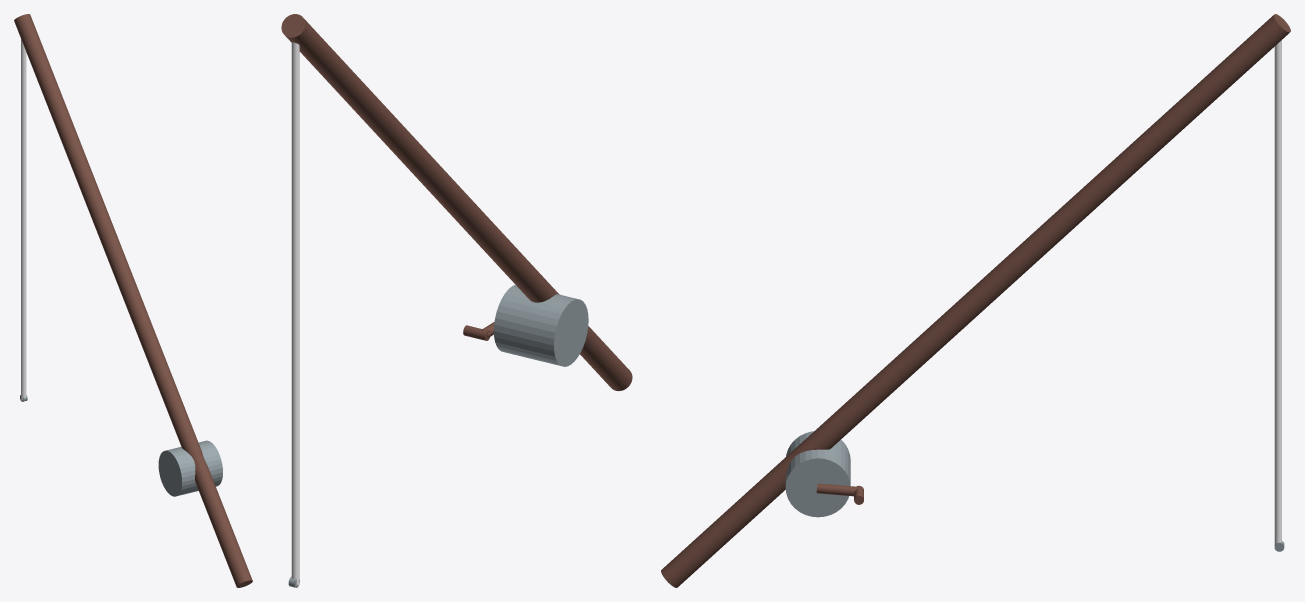
The model's file is Fishingrod.fbx.
3 renders of one model, left to right at view 1: azimuth 30°, elevation 25°; view 2: azimuth 150°, elevation 25°; view 3: azimuth 270°, elevation 25°, orthographic. The views are drawn at different scales.
Parts seen in each view (by area): view 1: Cylinder.005; view 2: Cylinder.005; view 3: Cylinder.005.
Part boxes in pixels (left/top/right/bottom): Cylinder.005: left=14, top=14, right=252, bottom=587; Cylinder.005: left=281, top=14, right=632, bottom=587; Cylinder.005: left=661, top=14, right=1290, bottom=587.
Size of the model in its own units: 147 by 1021 by 1021.
